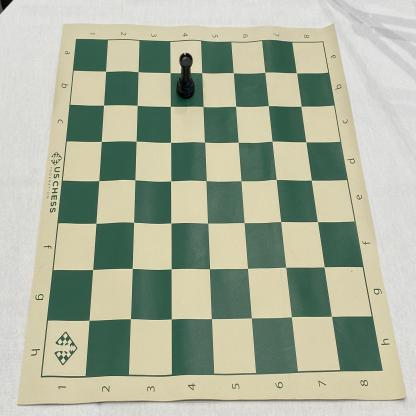black-rook: (176, 53, 195, 100)
